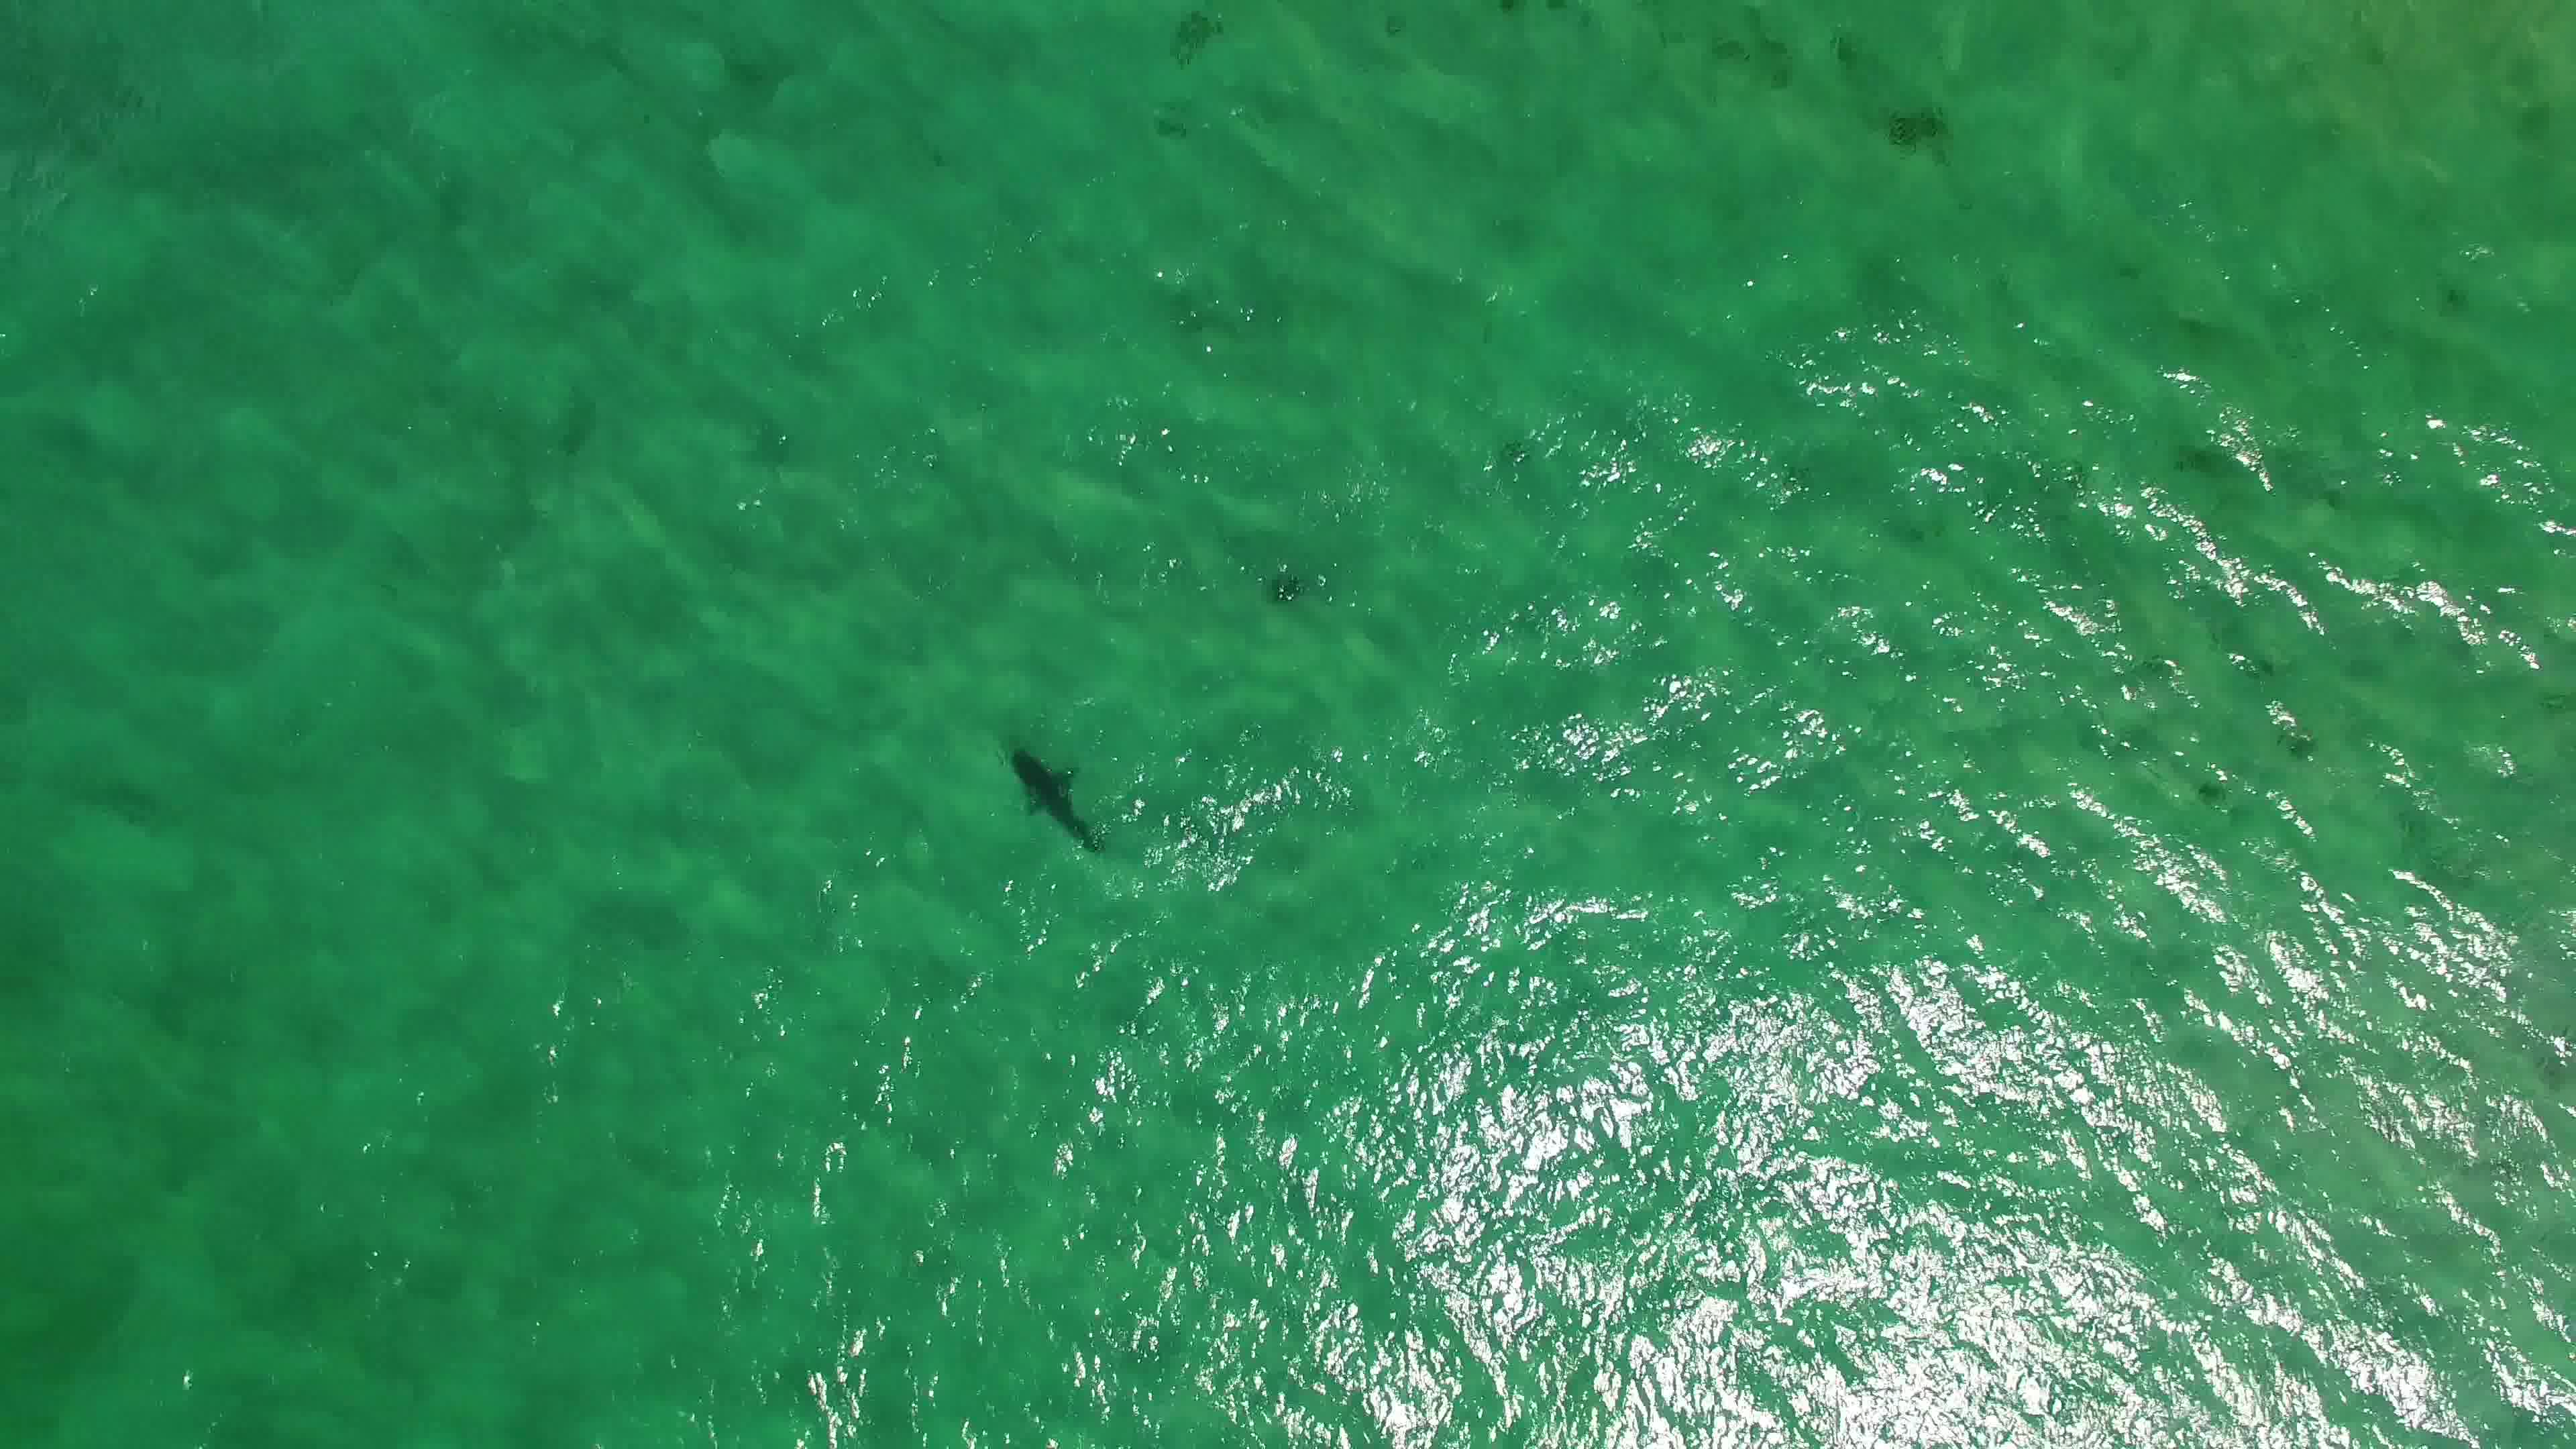shark: (1001, 743, 1116, 860)
